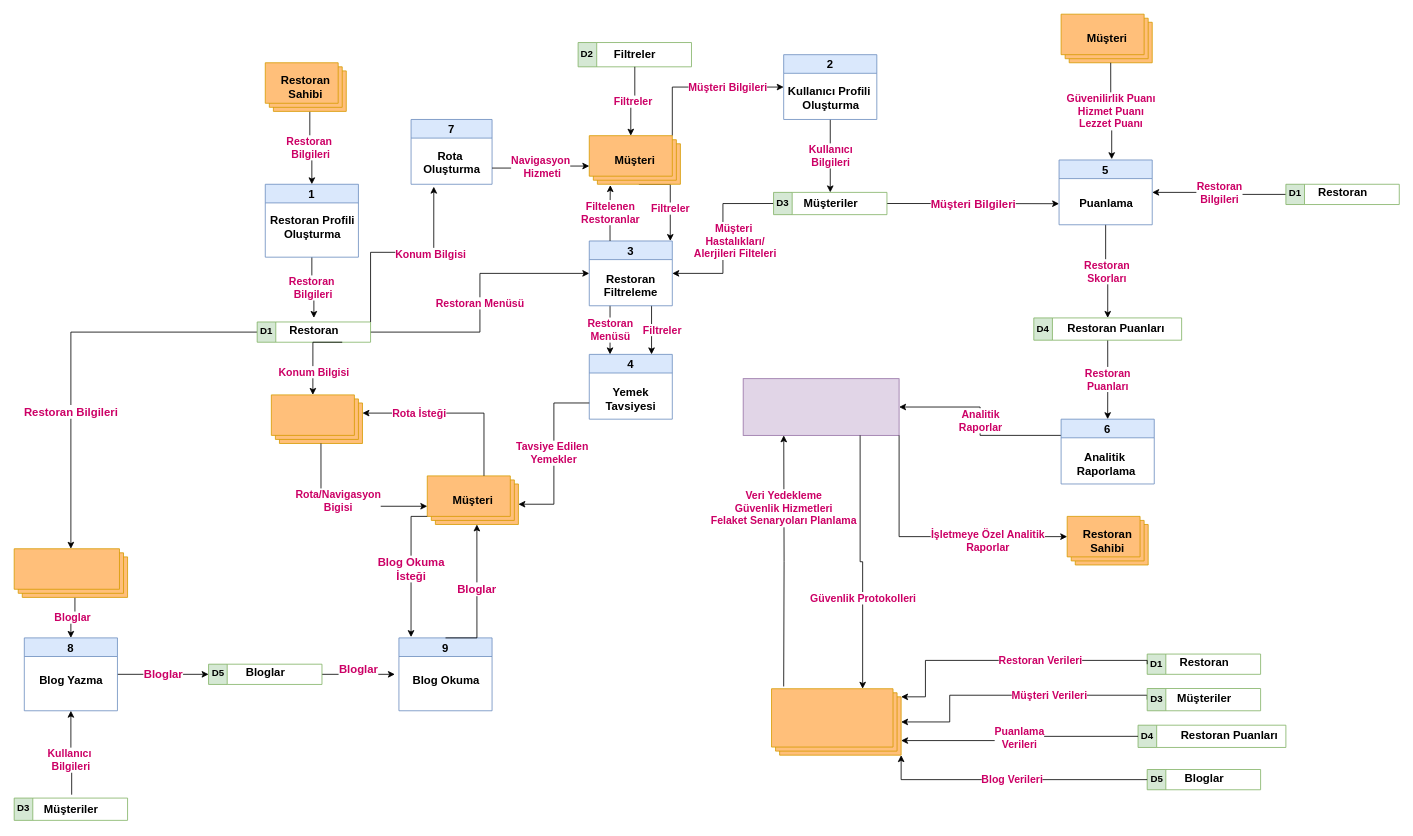
Some shapes in this 1413 by 836 pixel diagram are drawn without their labels. Each missing label, with the centre of its shape:
"Blog Yazarları / Influencerlar" belongs at point (70, 572).
"Harici Harita Uygulamaları" belongs at point (316, 418).
"Sistem Yöneticisi" belongs at point (820, 406).
"Veri Tabanı ve Uygulama Güvenlik Ekibi" belongs at point (836, 721).
